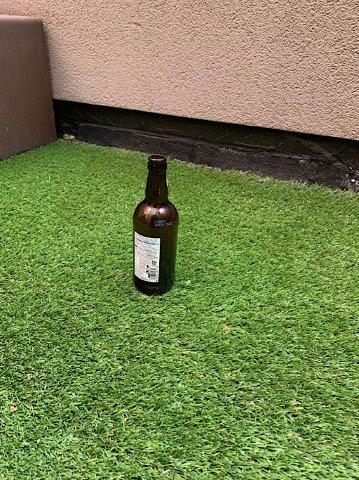botolkaca: (133, 154, 177, 296)
